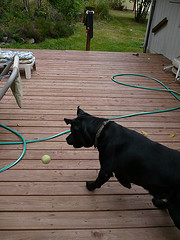tennis ball: (41, 153, 51, 165)
